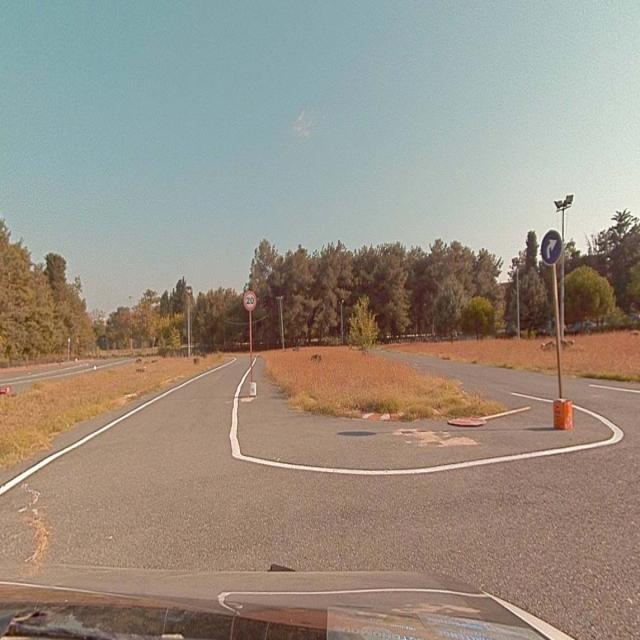20: (242, 289, 256, 311)
sag: (541, 230, 562, 262)
